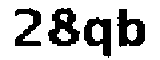2: (11, 4, 43, 52)
8: (47, 4, 80, 48)
b: (113, 3, 148, 51)
q: (83, 14, 114, 60)
